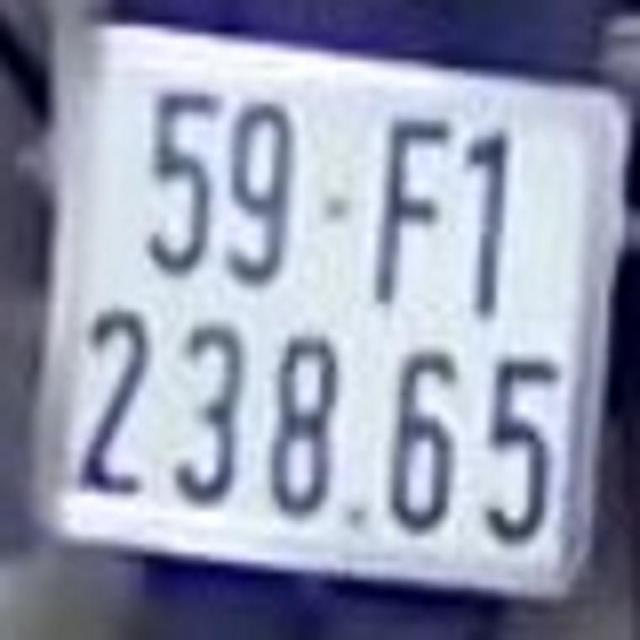1: (464, 123, 513, 320)
2: (83, 301, 157, 496)
3: (180, 322, 237, 500)
5: (485, 351, 561, 544), (146, 73, 218, 272)
6: (392, 345, 462, 537)
8: (273, 330, 338, 519)
9: (228, 92, 296, 286)
F: (378, 112, 451, 307)
